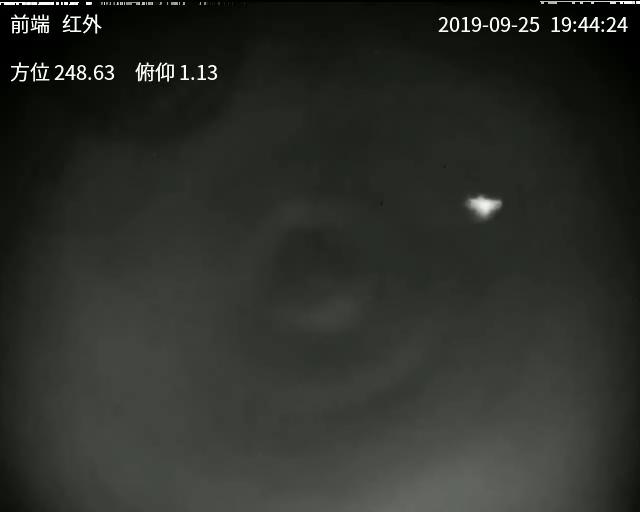uav: (462, 193, 504, 221)
